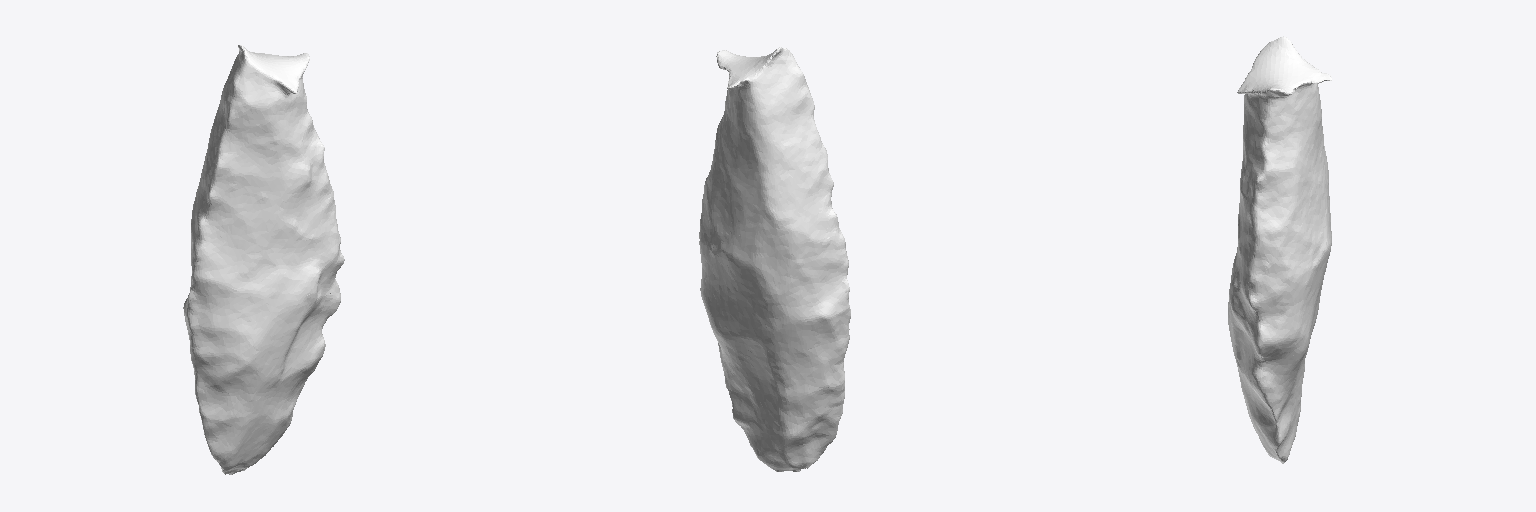
The model's file is pc491real.obj.
3 renders of one model, left to right at view 1: azimuth 30°, elevation 25°; view 2: azimuth 150°, elevation 25°; view 3: azimuth 270°, elevation 25°, orthographic.
Visible parts, largest first — view 1: pc491; view 2: pc491; view 3: pc491.
Boxes of the visible parts, x1=… form: pc491: x1=183, y1=45, x2=344, y2=474; pc491: x1=699, y1=47, x2=850, y2=471; pc491: x1=1228, y1=36, x2=1331, y2=463.
Bounding box in the file's own units: 0.2236 × 0.6075 × 0.1353.